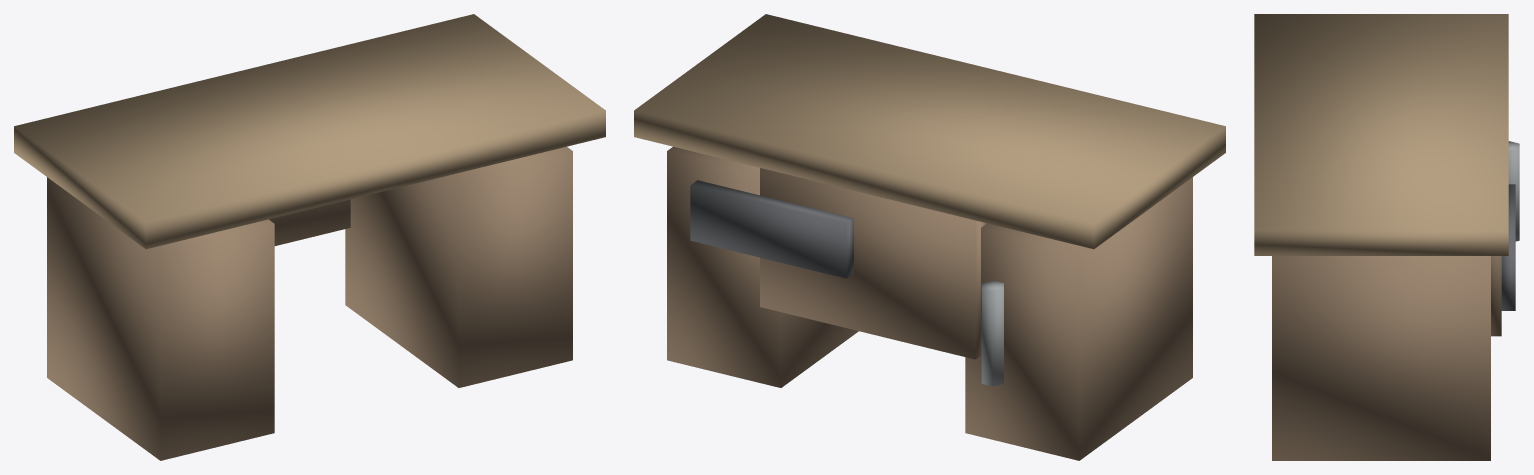
Rendered from office_desk__service.glb.
3 renders of one model, left to right at view 1: azimuth 30°, elevation 25°; view 2: azimuth 150°, elevation 25°; view 3: azimuth 270°, elevation 25°, orthographic. The views are drawn at different scales.
Visible parts, largest first — view 1: world; view 2: world; view 3: world.
Boxes of the visible parts, x1,y1,x2,y2 form: world: [14, 14, 605, 460]; world: [634, 14, 1225, 460]; world: [1254, 14, 1519, 460].
Size of the model in its own units: 1.45 by 0.755 by 0.7503.
